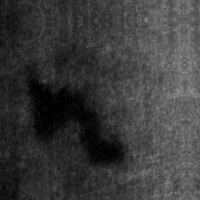patches: (26, 69, 125, 166)
